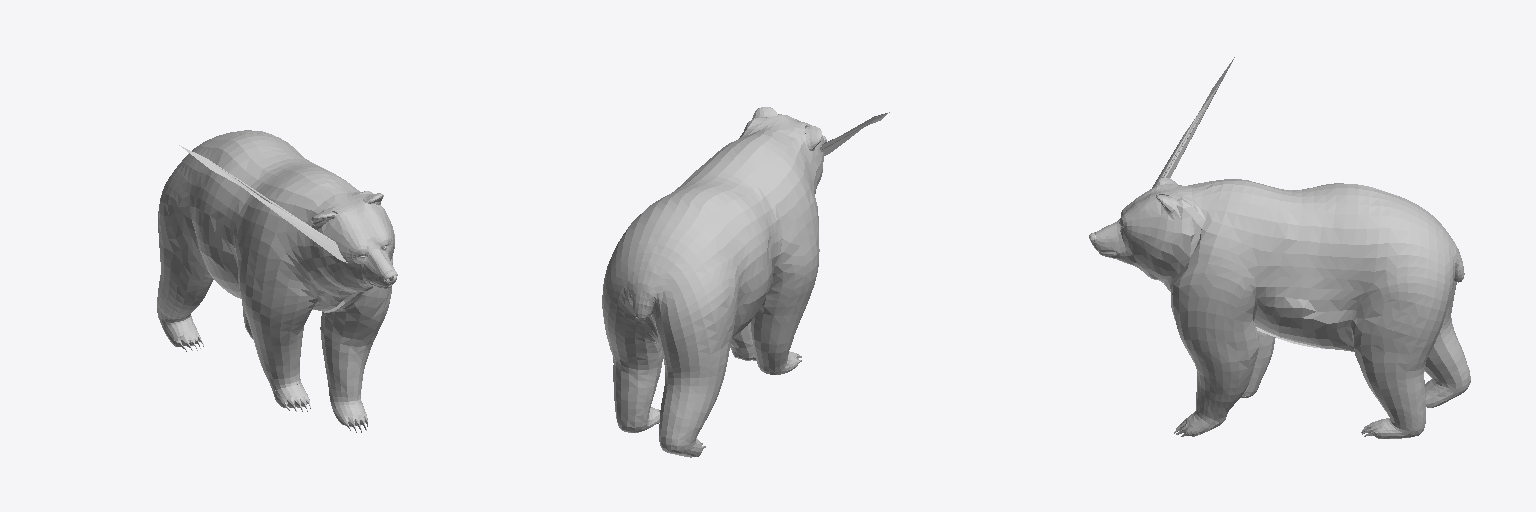
File: Bear0176.obj
The picture shows the model from 3 angles: view 1: azimuth 30°, elevation 25°; view 2: azimuth 150°, elevation 25°; view 3: azimuth 270°, elevation 25°; orthographic projection.
Visible parts, largest first — view 1: Object_237; view 2: Object_237; view 3: Object_237.
Boxes of the visible parts, <box> form: Object_237: <box>157,130,397,432</box>; Object_237: <box>602,107,889,457</box>; Object_237: <box>1089,57,1470,438</box>.
Size of the model in its own units: 2.98 by 4.33 by 4.93.